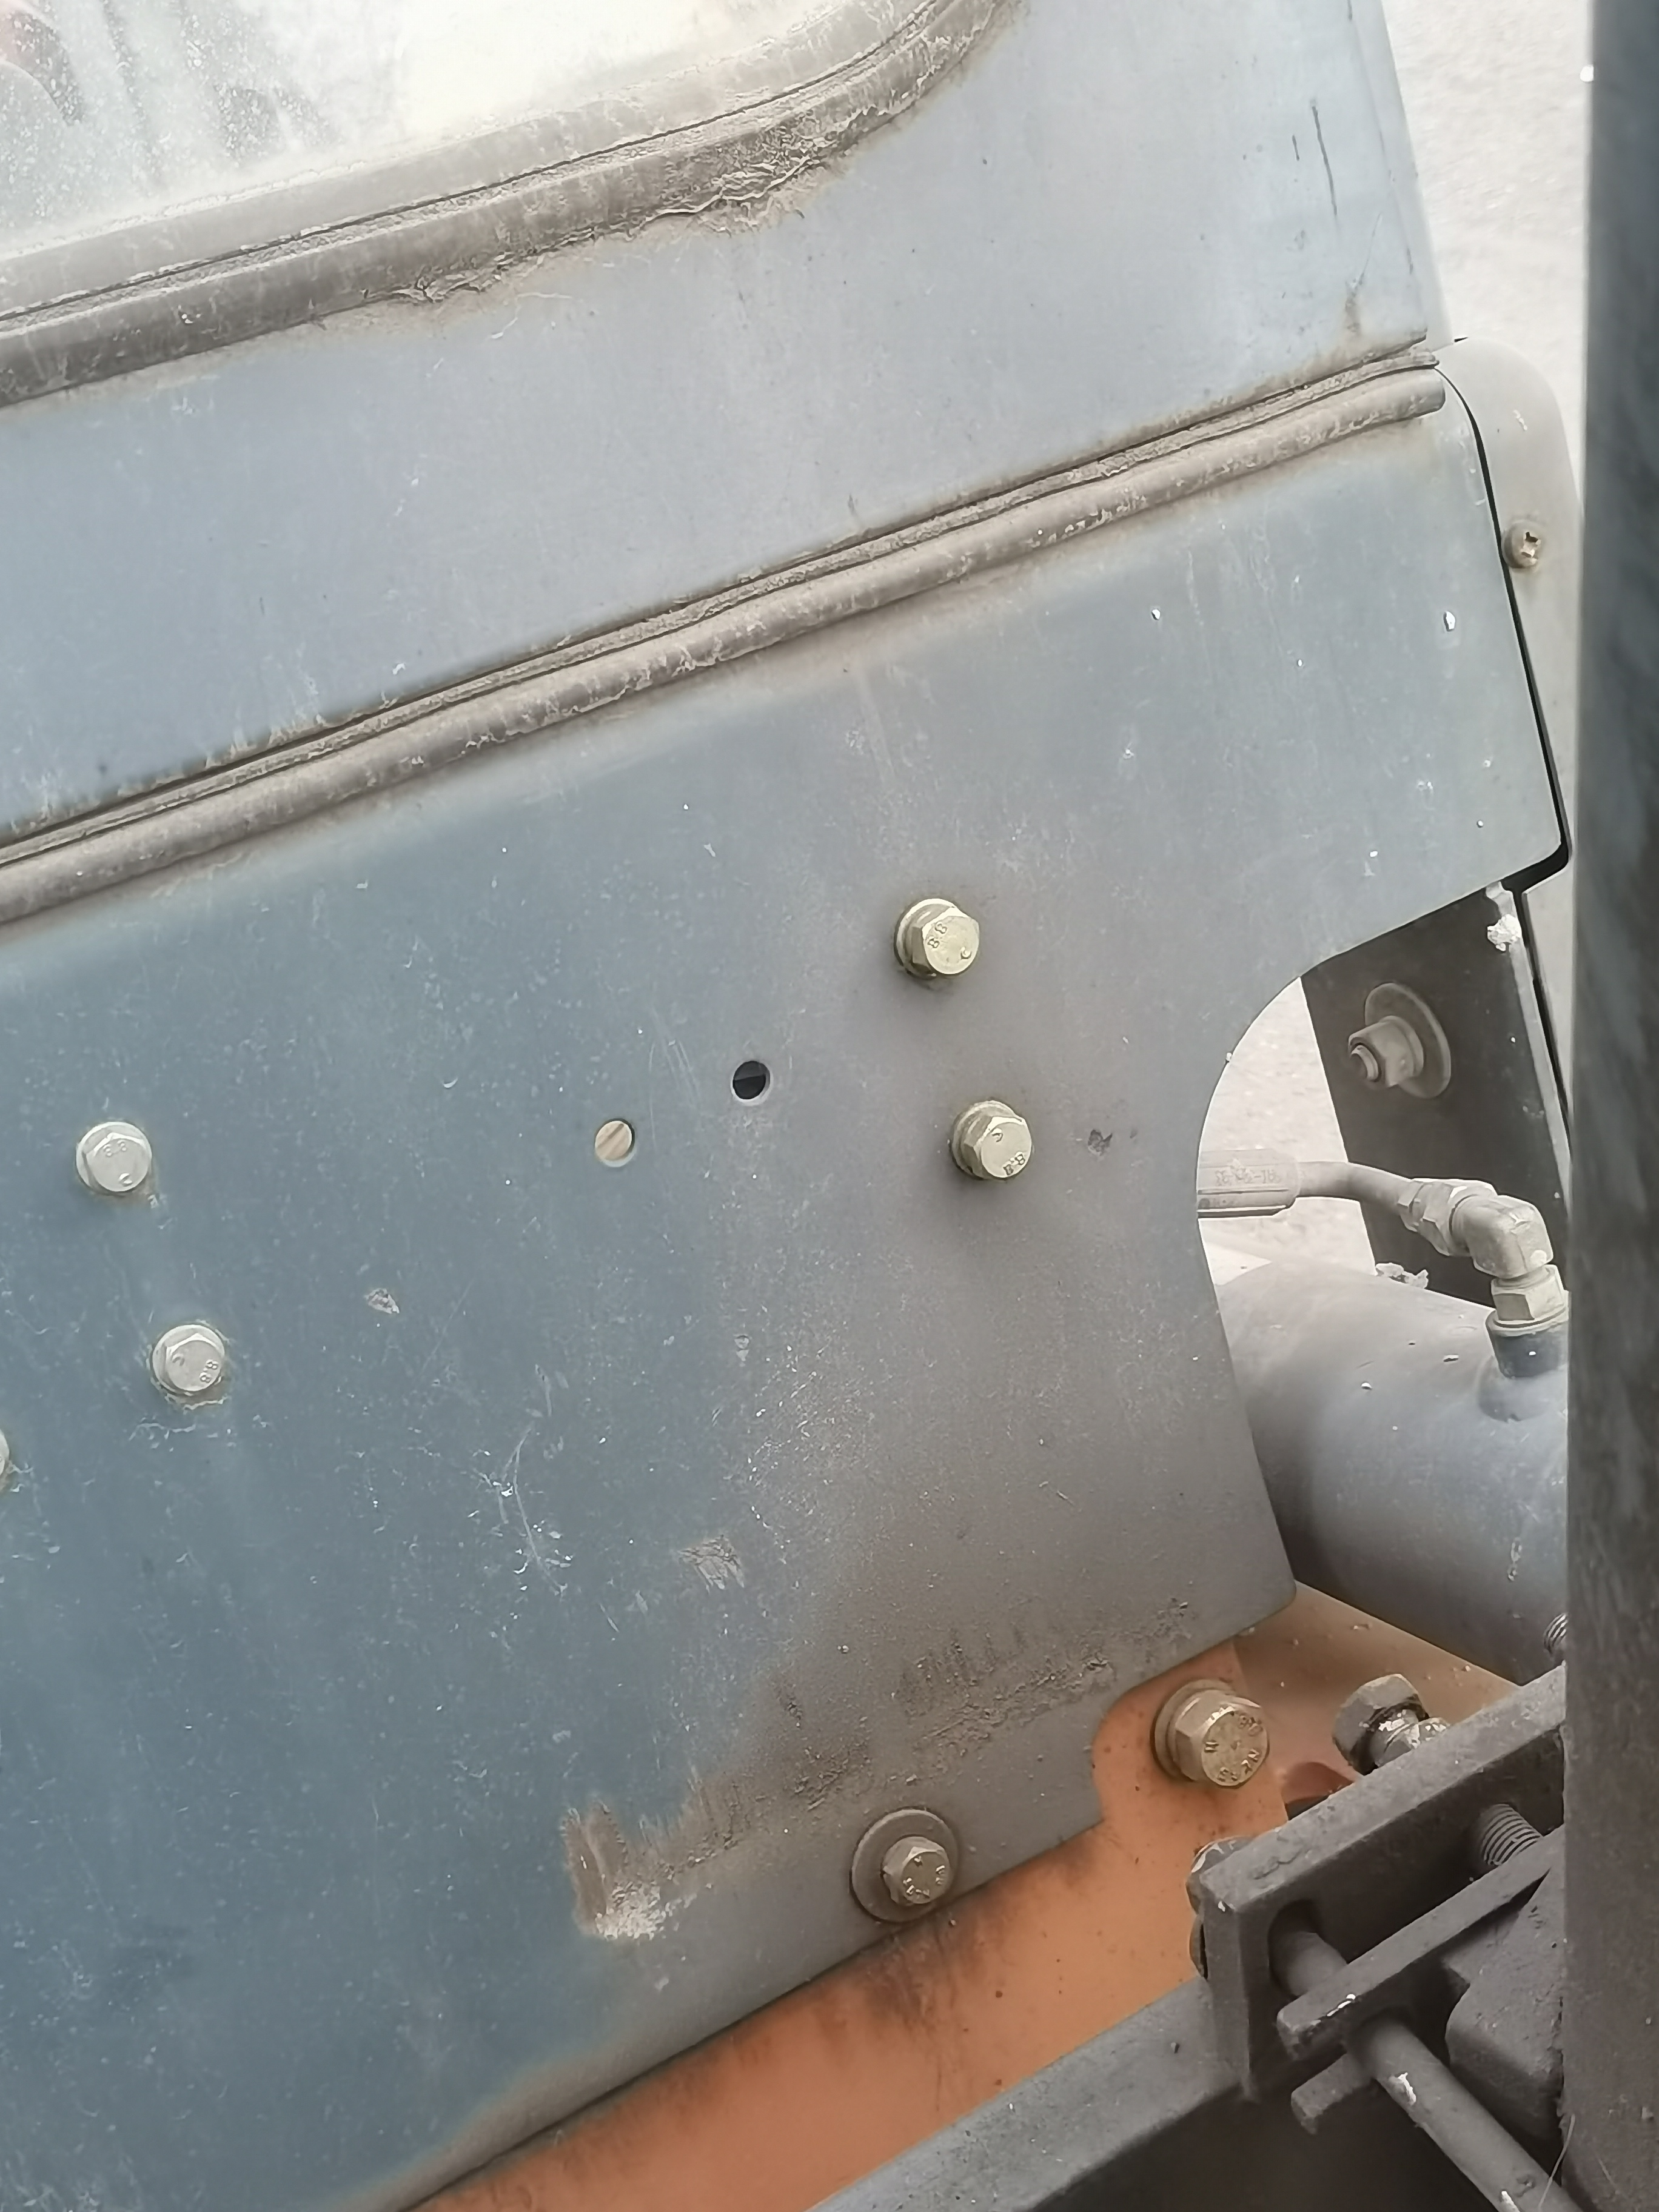bolt_a: (1168, 1684, 1276, 1794), (73, 1120, 160, 1202), (908, 895, 983, 984), (877, 1834, 957, 1914), (958, 1108, 1039, 1184), (155, 1325, 230, 1399)
bolt_b: (1324, 1669, 1429, 1777), (1419, 1170, 1511, 1266), (1342, 1022, 1419, 1094)
